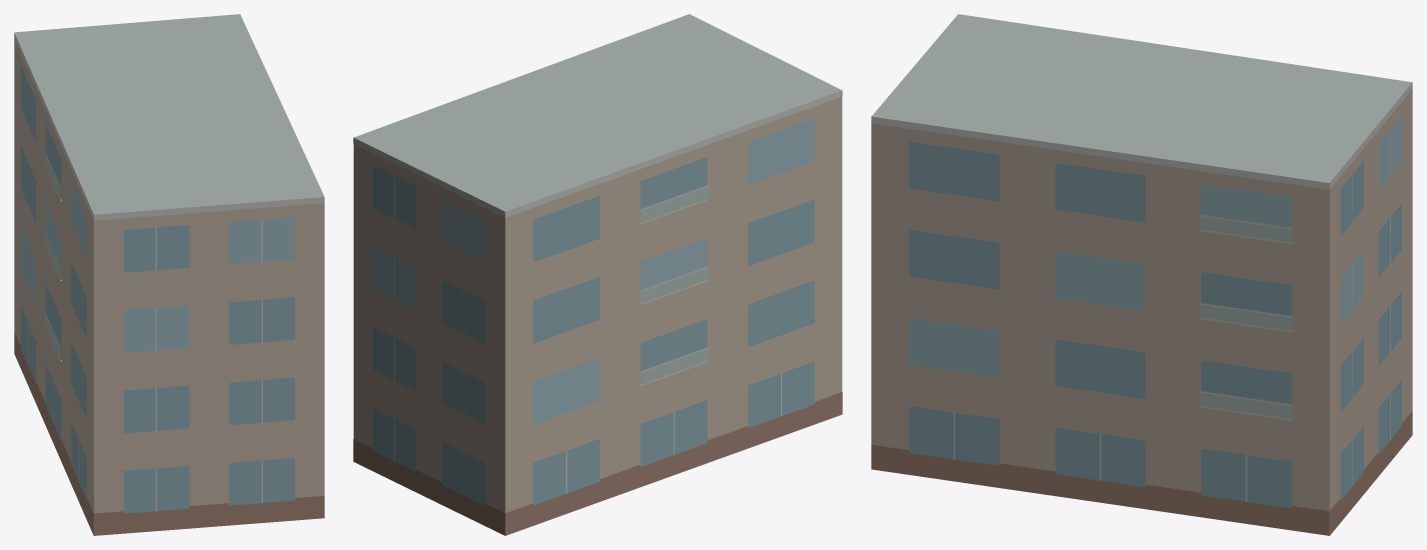
The model's file is survey-upis-32893539.glb.
3 views of the same model, side by side, from view 1: azimuth 30°, elevation 25°; view 2: azimuth 150°, elevation 25°; view 3: azimuth 270°, elevation 25° (orthographic). The views are drawn at different scales.
Visible parts, largest first — view 1: survey-upis-32893539.tmp; view 2: survey-upis-32893539.tmp; view 3: survey-upis-32893539.tmp.
Part boxes in pixels (x1=…): survey-upis-32893539.tmp: x1=14, y1=14, x2=324, y2=535; survey-upis-32893539.tmp: x1=353, y1=14, x2=842, y2=535; survey-upis-32893539.tmp: x1=871, y1=14, x2=1412, y2=535.
Size of the model in its own units: 13.17 by 12.8 by 17.81.
